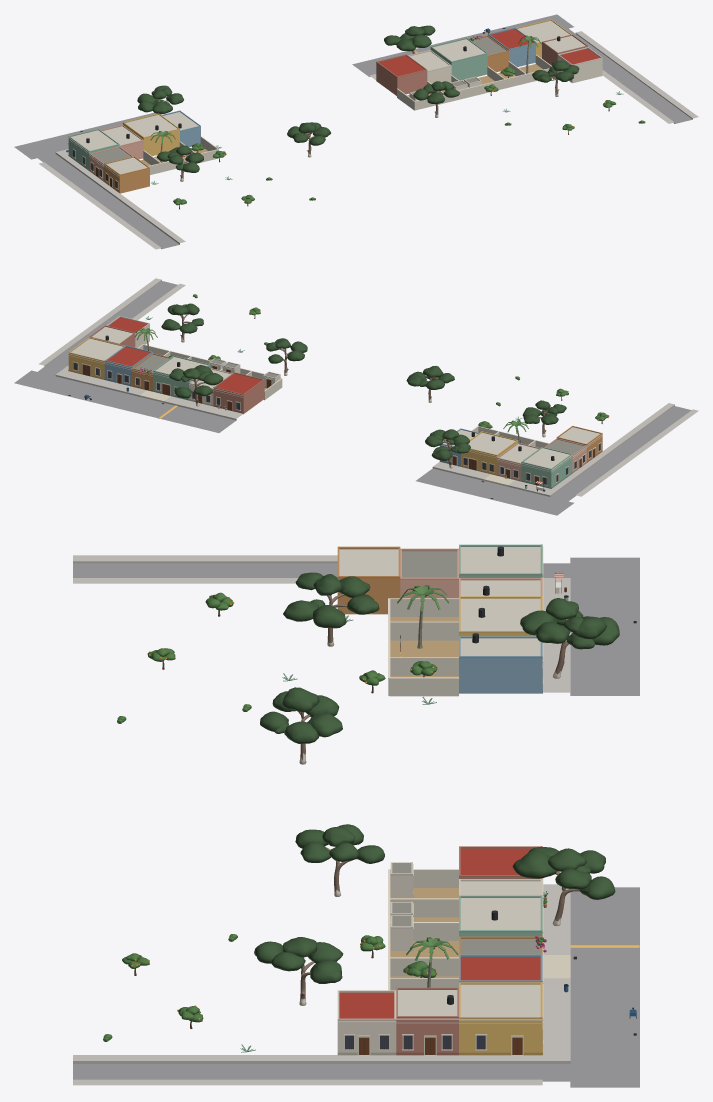
Rendered from barrio_enfrente.glb.
3 renders of one model, top to bottom at view 1: azimuth 30°, elevation 25°; view 2: azimuth 150°, elevation 25°; view 3: azimuth 270°, elevation 25°, orthographic. The views are drawn at different scales.
Parts seen in each view (by area): view 1: enfrente_fachadas, enfrente_arroyo, enfrente_laurel_copa, enfrente_banqueta, enfrente_naranjo_copa, enfrente_suelo; view 2: enfrente_fachadas, enfrente_arroyo, enfrente_banqueta, enfrente_laurel_copa, enfrente_pasta, enfrente_herreria, enfrente_naranjo_copa; view 3: enfrente_fachadas, enfrente_arroyo, enfrente_laurel_copa, enfrente_banqueta, enfrente_suelo, enfrente_naranjo_copa, enfrente_palma_copa.
Boxes of the visible parts, left/top/right/bottom form: enfrente_fachadas: left=66, top=19, right=645, bottom=203; enfrente_arroyo: left=14, top=14, right=692, bottom=248; enfrente_laurel_copa: left=137, top=25, right=579, bottom=172; enfrente_banqueta: left=39, top=31, right=698, bottom=249; enfrente_naranjo_copa: left=173, top=66, right=615, bottom=205; enfrente_suelo: left=140, top=64, right=542, bottom=165; enfrente_fachadas: left=68, top=294, right=608, bottom=498; enfrente_arroyo: left=14, top=281, right=691, bottom=515; enfrente_banqueta: left=38, top=278, right=698, bottom=496; enfrente_laurel_copa: left=161, top=303, right=566, bottom=460; enfrente_pasta: left=140, top=390, right=514, bottom=486; enfrente_herreria: left=74, top=363, right=600, bottom=489; enfrente_naranjo_copa: left=168, top=304, right=608, bottom=428; enfrente_fachadas: left=103, top=544, right=639, bottom=1055; enfrente_arroyo: left=73, top=557, right=639, bottom=1087; enfrente_laurel_copa: left=254, top=572, right=619, bottom=983; enfrente_banqueta: left=73, top=555, right=570, bottom=1085; enfrente_suelo: left=390, top=617, right=458, bottom=977; enfrente_naranjo_copa: left=122, top=592, right=437, bottom=1022; enfrente_palma_copa: left=397, top=585, right=458, bottom=962.
Bounding box in the file's own units: 180 × 13.47 × 81.4.
